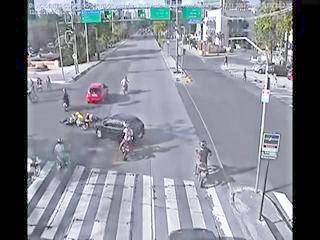Car: (97, 110, 151, 145), (85, 77, 111, 111)
Minor Accident: (59, 109, 157, 152)
Motor: (64, 109, 114, 144)
